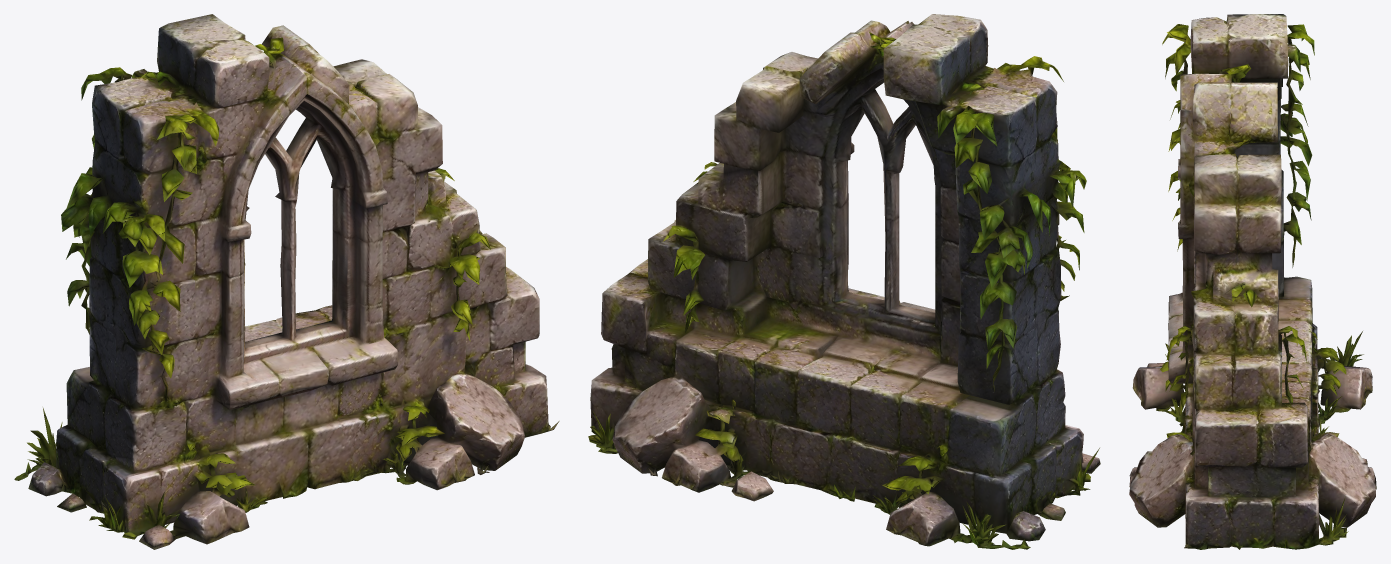
The model's file is gen_wall.glb.
3 renders of one model, left to right at view 1: azimuth 30°, elevation 25°; view 2: azimuth 150°, elevation 25°; view 3: azimuth 270°, elevation 25°, orthographic. The views are drawn at different scales.
Visible parts, largest first — view 1: tripo_node_b219d084-a67a-4a38-922e-7bf6d2f36f79; view 2: tripo_node_b219d084-a67a-4a38-922e-7bf6d2f36f79; view 3: tripo_node_b219d084-a67a-4a38-922e-7bf6d2f36f79.
Boxes of the visible parts, x1,y1,x2,y2 form: tripo_node_b219d084-a67a-4a38-922e-7bf6d2f36f79: (14,14,559,549); tripo_node_b219d084-a67a-4a38-922e-7bf6d2f36f79: (588,14,1100,549); tripo_node_b219d084-a67a-4a38-922e-7bf6d2f36f79: (1129,14,1376,549).
Size of the model in its own units: 0.9676 by 0.8879 by 0.5068.
1 material, 1 textured.
